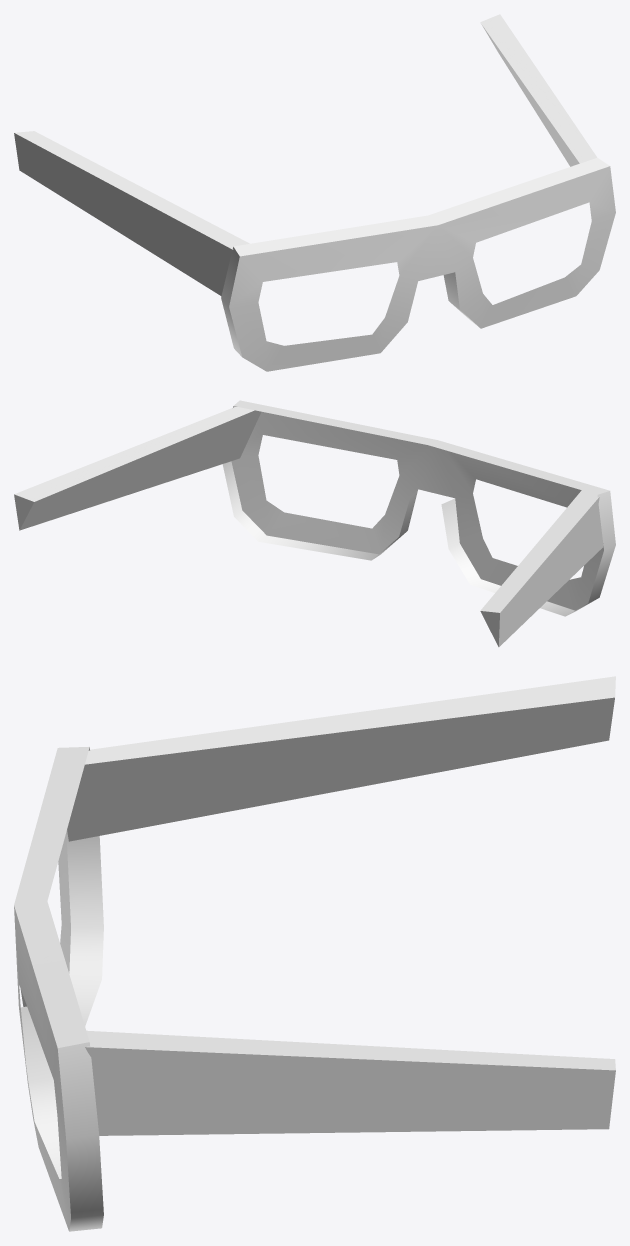
The model's file is Female_Glasses_02_v2.fbx.
3 renders of one model, top to bottom at view 1: azimuth 30°, elevation 25°; view 2: azimuth 150°, elevation 25°; view 3: azimuth 270°, elevation 25°, orthographic. The views are drawn at different scales.
Parts seen in each view (by area): view 1: Female_Glasses_02_v2; view 2: Female_Glasses_02_v2; view 3: Female_Glasses_02_v2.
Part boxes in pixels (x1,y1,x2,y2): Female_Glasses_02_v2: (14,14,615,371); Female_Glasses_02_v2: (14,400,615,647); Female_Glasses_02_v2: (14,676,615,1231).
Size of the model in its own units: 57.58 by 15.89 by 37.17.
